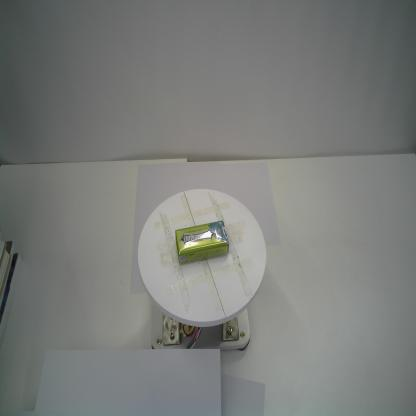Gum: (173, 218, 231, 266)
